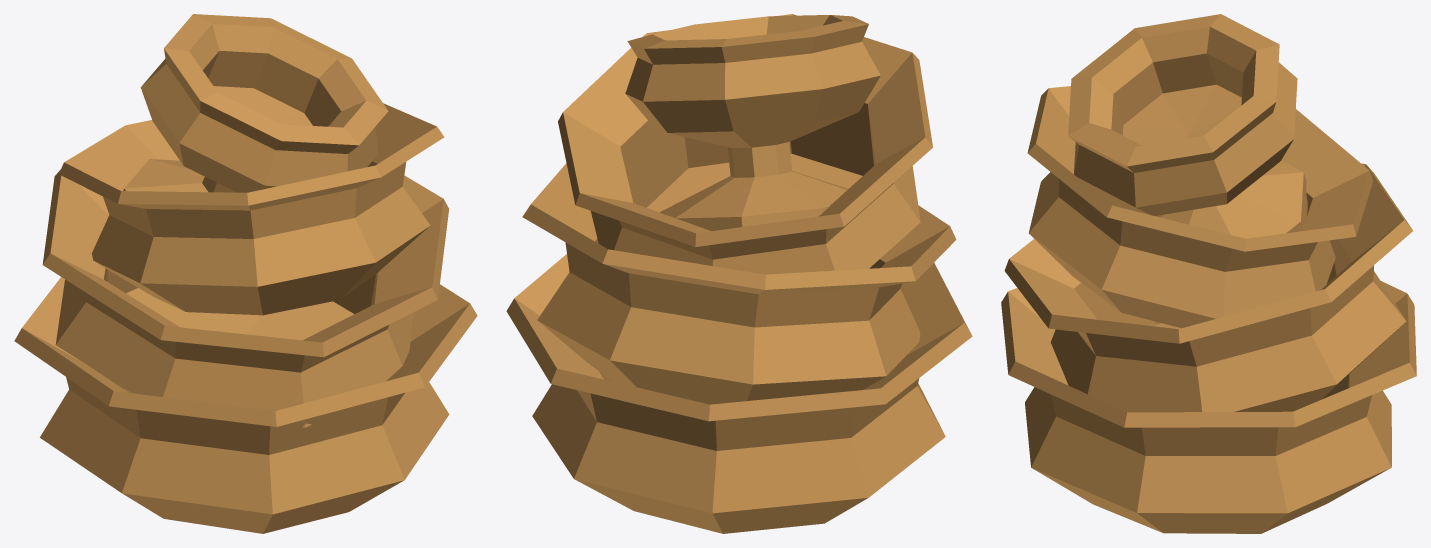
The model's file is SM_Prop_Gold_Plates_Preset_04.fbx.
The picture shows the model from 3 angles, left to right: view 1: azimuth 30°, elevation 25°; view 2: azimuth 150°, elevation 25°; view 3: azimuth 270°, elevation 25°; orthographic projection. The views are drawn at different scales.
Parts seen in each view (by area): view 1: SM_Prop_Gold_Plates_Preset_04; view 2: SM_Prop_Gold_Plates_Preset_04; view 3: SM_Prop_Gold_Plates_Preset_04.
Part boxes in pixels (left/top/right/bottom): SM_Prop_Gold_Plates_Preset_04: left=14, top=14, right=477, bottom=533; SM_Prop_Gold_Plates_Preset_04: left=506, top=14, right=972, bottom=533; SM_Prop_Gold_Plates_Preset_04: left=1001, top=14, right=1416, bottom=533.
Size of the model in its own units: 75.29 by 85.9 by 74.54.
